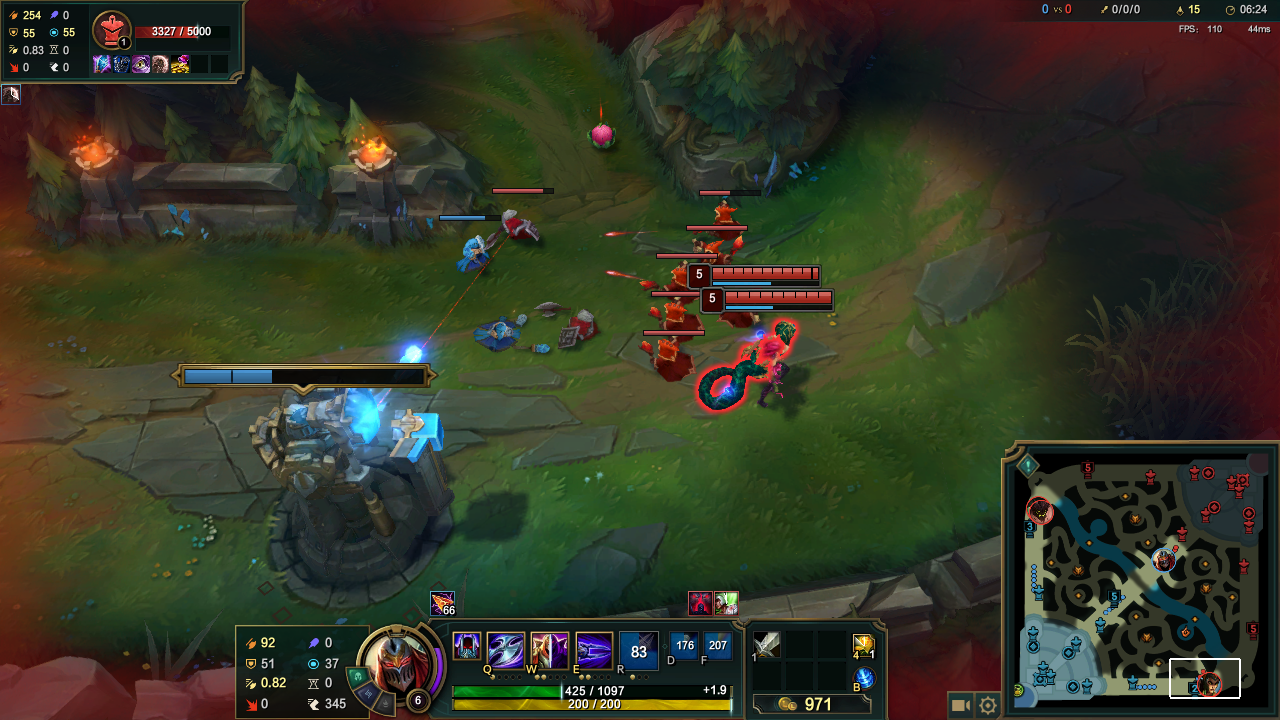DFYX: (710, 266, 822, 286), (725, 292, 834, 310)
